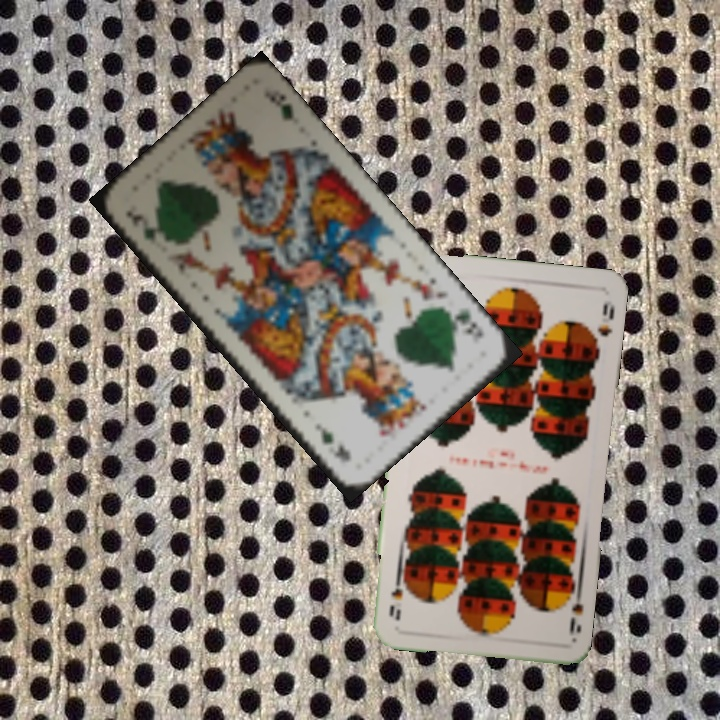GK: (121, 203, 168, 245), (442, 305, 486, 345)
S9: (559, 582, 586, 642)
